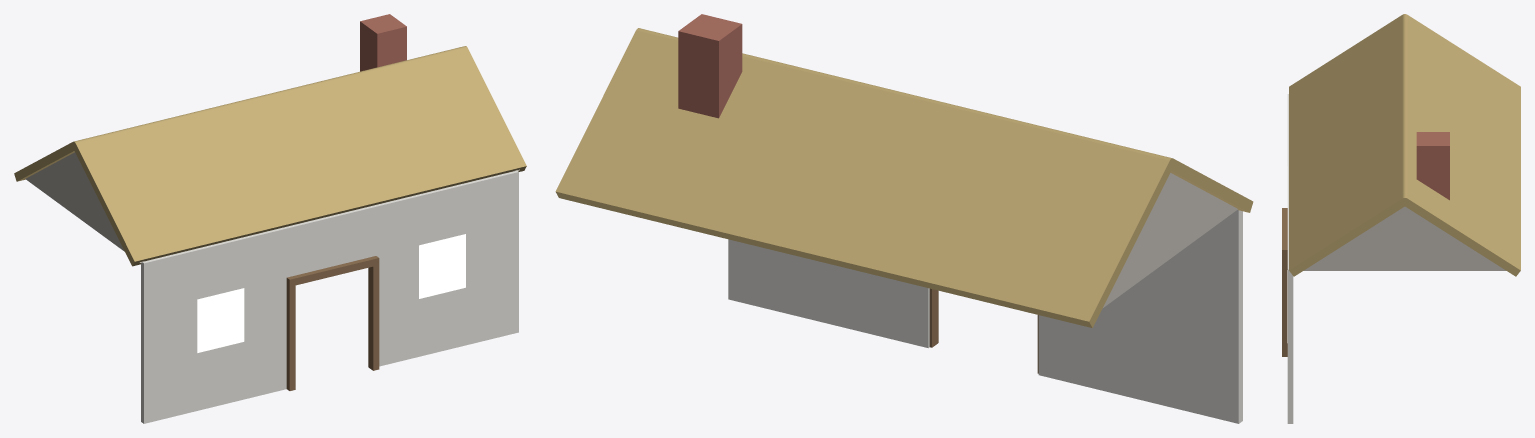
The model's file is HeroHouseFacade.fbx.
3 renders of one model, left to right at view 1: azimuth 30°, elevation 25°; view 2: azimuth 150°, elevation 25°; view 3: azimuth 270°, elevation 25°, orthographic. The views are drawn at different scales.
Visible parts, largest first — view 1: HeroRoof1, HeroFacadeL, HeroFacadeR, HeroLintel, Gable.Hero.L, HeroWindow1, HeroWindow2, HeroChimney, HeroDoorFrameR, HeroRidge, HeroDoorFrameL, HeroDoorTop (+1 smaller); view 2: HeroRoof2, HeroFacadeL, HeroFacadeR, Gable.Hero.L, HeroChimney, HeroRidge, HeroRoof1; view 3: HeroRoof1, HeroRoof2, Gable.Hero.R, HeroChimney, HeroFacadeR, HeroRidge, HeroDoorFrameR, HeroDoorTop.
Part boxes in pixels (x1,y1,x2,y2): HeroRoof1: [73, 48, 526, 266]; HeroFacadeL: [141, 226, 290, 423]; HeroFacadeR: [370, 171, 518, 366]; HeroLintel: [289, 206, 371, 276]; Gable.Hero.L: [25, 152, 144, 262]; HeroWindow1: [197, 288, 244, 352]; HeroWindow2: [419, 234, 465, 298]; HeroChimney: [360, 14, 406, 71]; HeroDoorFrameR: [368, 262, 379, 370]; HeroRidge: [72, 46, 467, 149]; HeroDoorFrameL: [286, 282, 295, 390]; HeroDoorTop: [286, 256, 379, 286]; HeroRoof2: [555, 30, 1172, 327]; HeroFacadeL: [1038, 210, 1242, 423]; HeroFacadeR: [728, 239, 929, 348]; Gable.Hero.L: [1103, 173, 1237, 307]; HeroChimney: [678, 14, 742, 118]; HeroRidge: [636, 28, 1174, 169]; HeroRoof1: [1170, 158, 1253, 212]; HeroRoof1: [1289, 15, 1406, 276]; HeroRoof2: [1403, 15, 1520, 276]; Gable.Hero.R: [1303, 206, 1506, 270]; HeroChimney: [1416, 132, 1449, 200]; HeroFacadeR: [1287, 200, 1293, 423]; HeroRidge: [1400, 14, 1408, 205]; HeroDoorFrameR: [1282, 254, 1287, 356]; HeroDoorTop: [1282, 208, 1287, 256].
Bounding box in the file's own units: 920 × 600 × 505.
